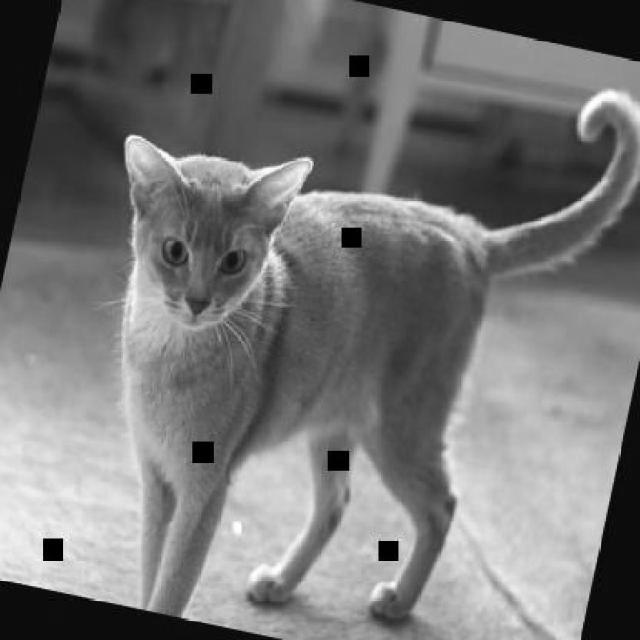Cat: (29, 116, 631, 638)
